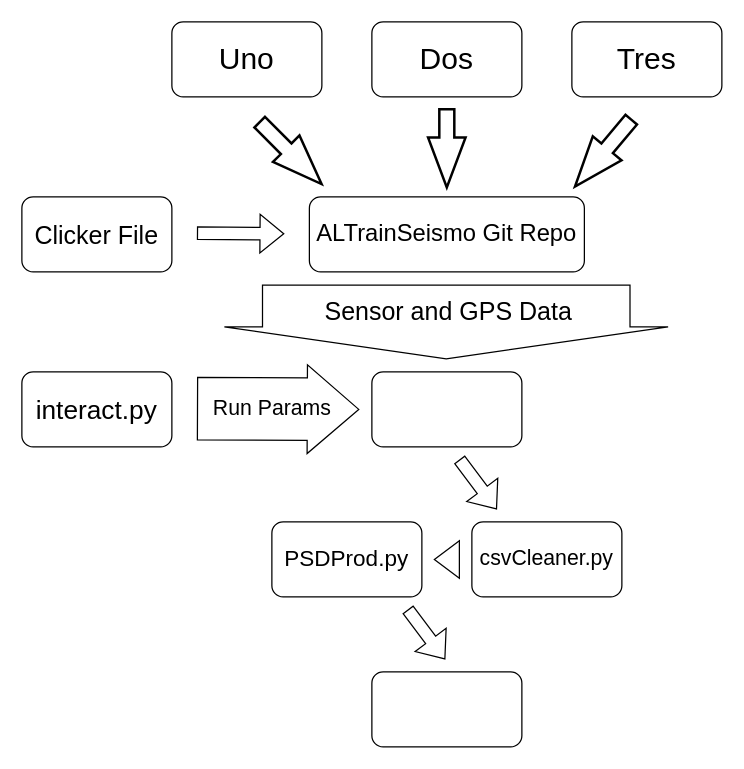
The diagram is 744 pixels wide and 769 high, and some of its shapes have lost their labels. Here are the shapes that lost their labels. From the top down, the centre of each, then its label:
At pixel 446 409: "pipe.py".
At pixel 446 709: "MatPlotLib".
